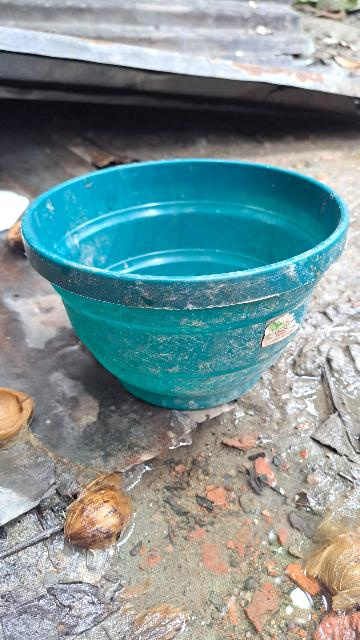hardplastic: (28, 161, 346, 414)
